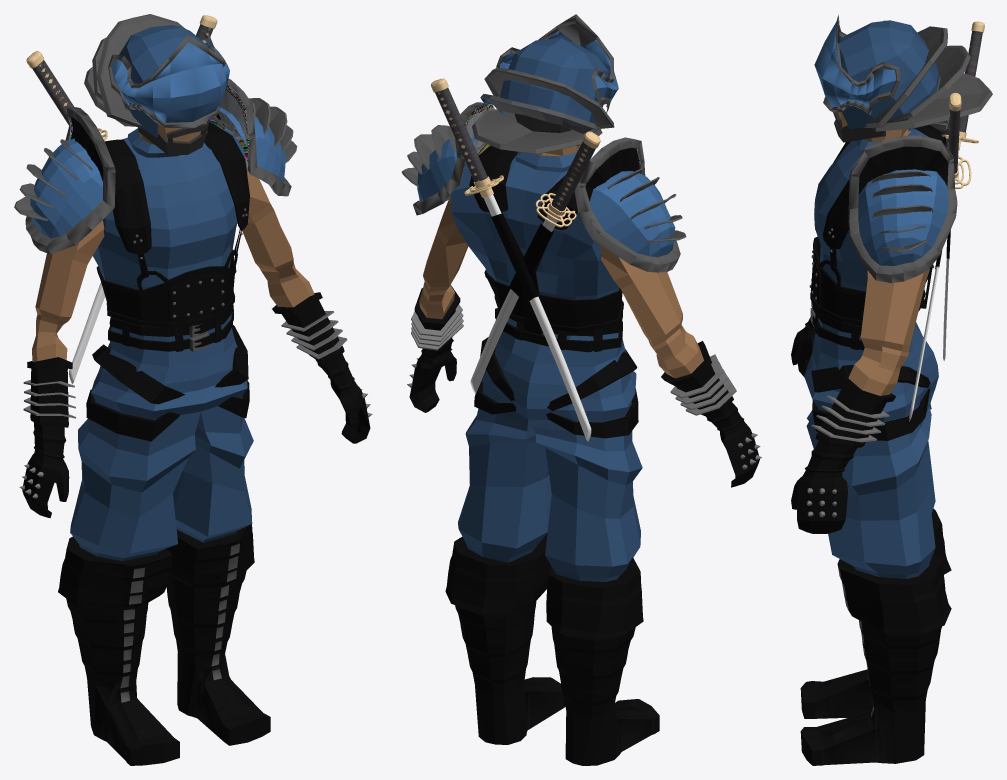
The model's file is SS Soldier_Blue-Third_Class_(srasmussen).fbx.
The picture shows the model from 3 angles, left to right: view 1: azimuth 30°, elevation 25°; view 2: azimuth 150°, elevation 25°; view 3: azimuth 270°, elevation 25°; orthographic projection.
Parts seen in each view (by area): view 1: SS_Pants, SS_Boots R, SS_Boots L, SS_Torso, SS_Harness, SS_Shoulder Plates, SS_Gloves, LPH_Arms.001, SS_Helmet Visor.008, SS_Helmet.001, SS_Pants.Leg_Straps.001, SS_Helmet.004 (+8 smaller); view 2: SS_Pants, SS_Boots R, SS_Boots L, SS_Shoulder Plates, SS_Torso, LPH_Arms.001, SS_Gloves, SS_Helmet.001, SS_Harness, SS_Helmet.002, SS_Helmet.004, SS_Pants.Leg_Straps.001 (+11 smaller); view 3: SS_Boots L, SS_Pants, SS_Shoulder Plates, SS_Gloves, SS_Helmet.001, LPH_Arms.001, SS_Harness, SS_Torso, SS_Boots R, SS_Helmet Visor.008, SS_Helmet.002, SS_Helmet.004 (+10 smaller).
Part boxes in pixels (bbox=[...]): SS_Pants: bbox=[70, 314, 253, 561]; SS_Boots R: bbox=[58, 536, 179, 765]; SS_Boots L: bbox=[166, 524, 270, 745]; SS_Torso: bbox=[93, 128, 247, 289]; SS_Harness: bbox=[96, 122, 249, 351]; SS_Shoulder Plates: bbox=[25, 79, 291, 254]; SS_Gloves: bbox=[22, 292, 370, 518]; LPH_Arms.001: bbox=[32, 156, 314, 361]; SS_Helmet Visor.008: bbox=[111, 38, 229, 122]; SS_Helmet.001: bbox=[92, 25, 210, 137]; SS_Pants.Leg_Straps.001: bbox=[92, 325, 248, 404]; SS_Helmet.004: bbox=[14, 98, 297, 220]; SS_Pants: bbox=[458, 318, 642, 581]; SS_Boots R: bbox=[546, 558, 659, 765]; SS_Boots L: bbox=[445, 533, 565, 744]; SS_Shoulder Plates: bbox=[413, 102, 680, 272]; SS_Torso: bbox=[450, 151, 619, 299]; LPH_Arms.001: bbox=[419, 195, 703, 378]; SS_Gloves: bbox=[409, 285, 759, 487]; SS_Helmet.001: bbox=[480, 38, 608, 133]; SS_Harness: bbox=[469, 145, 623, 351]; SS_Helmet.002: bbox=[472, 109, 602, 154]; SS_Helmet.004: bbox=[401, 125, 686, 242]; SS_Pants.Leg_Straps.001: bbox=[480, 337, 637, 411]; SS_Boots L: bbox=[800, 553, 951, 765]; SS_Pants: bbox=[804, 318, 938, 578]; SS_Shoulder Plates: bbox=[848, 120, 957, 283]; SS_Gloves: bbox=[791, 317, 895, 533]; SS_Helmet.001: bbox=[839, 20, 970, 129]; LPH_Arms.001: bbox=[848, 268, 929, 395]; SS_Harness: bbox=[810, 125, 946, 349]; SS_Torso: bbox=[814, 128, 947, 291]; SS_Boots R: bbox=[800, 508, 951, 718]; SS_Helmet Visor.008: bbox=[814, 21, 896, 107]; SS_Helmet.002: bbox=[871, 73, 992, 131]; SS_Helmet.004: bbox=[871, 171, 932, 252].
Bounding box in the file's own units: 242 × 476 × 121.
Materials: 9 (3 with a texture image).
